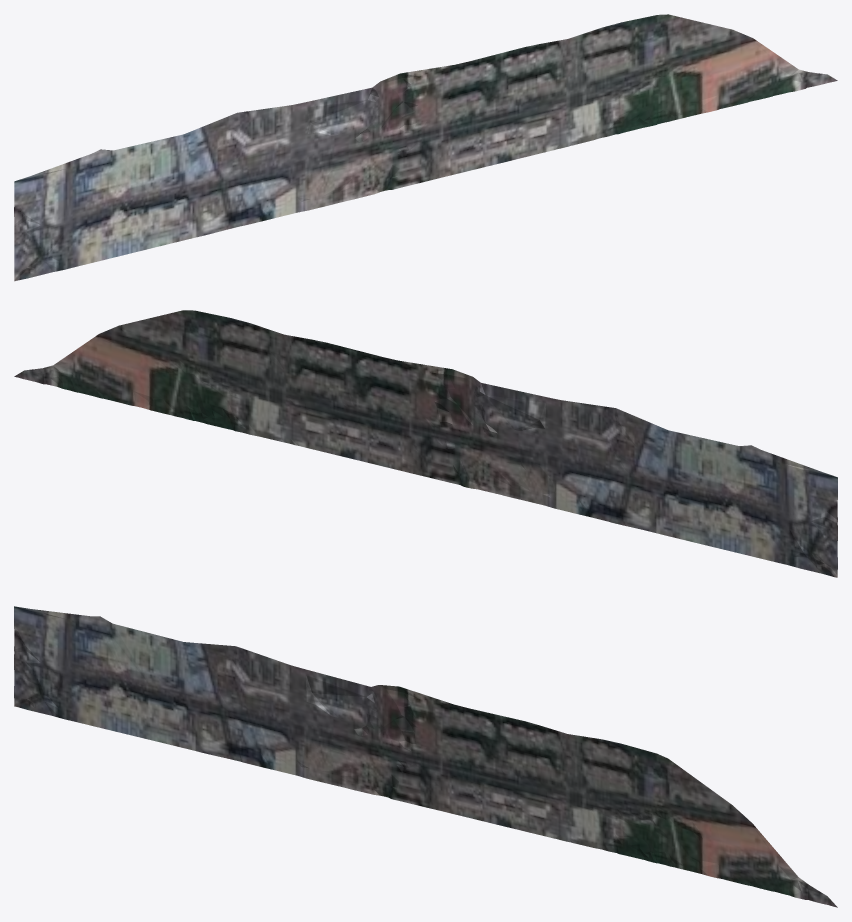
The picture shows the model from 3 angles, top to bottom: view 1: azimuth 30°, elevation 25°; view 2: azimuth 150°, elevation 25°; view 3: azimuth 330°, elevation 25°; orthographic projection.
Visible parts, largest first — view 1: 0_2_0; view 2: 0_2_0; view 3: 0_2_0.
Boxes of the visible parts, bbox=[...] form: 0_2_0: bbox=[14, 14, 837, 281]; 0_2_0: bbox=[14, 310, 837, 577]; 0_2_0: bbox=[14, 606, 837, 907].
Size of the model in its own units: 1996 by 266 by 8.44.
1 material, 1 textured.
